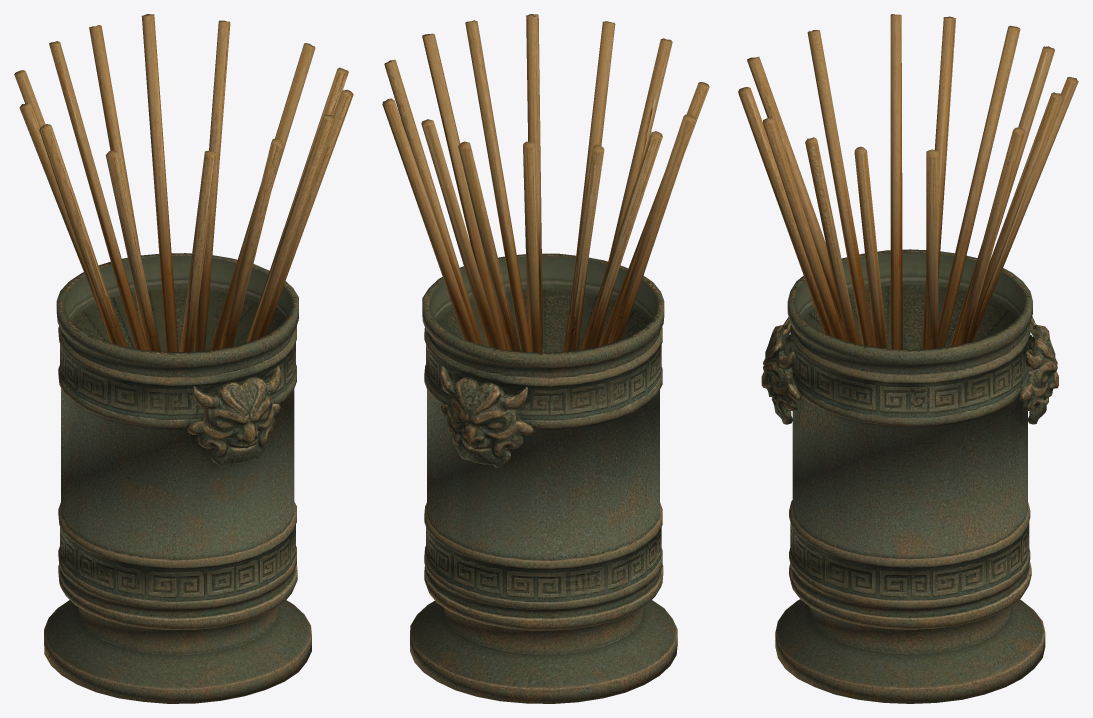
Rendered from tripo_convert_6b601b22-b038-47c0-9231-14fecf6fc538.fbx.
The picture shows the model from 3 angles, left to right: view 1: azimuth 30°, elevation 25°; view 2: azimuth 150°, elevation 25°; view 3: azimuth 270°, elevation 25°; orthographic projection.
Parts seen in each view (by area): view 1: tripo_node_6b601b22; view 2: tripo_node_6b601b22; view 3: tripo_node_6b601b22.
Boxes of the visible parts, x1,y1,x2,y2 form: tripo_node_6b601b22: (14, 14, 353, 703); tripo_node_6b601b22: (382, 14, 709, 703); tripo_node_6b601b22: (738, 14, 1078, 703).
Size of the model in its own units: 0.5371 by 0.998 by 0.5371.
Materials: 1 (1 with a texture image).
